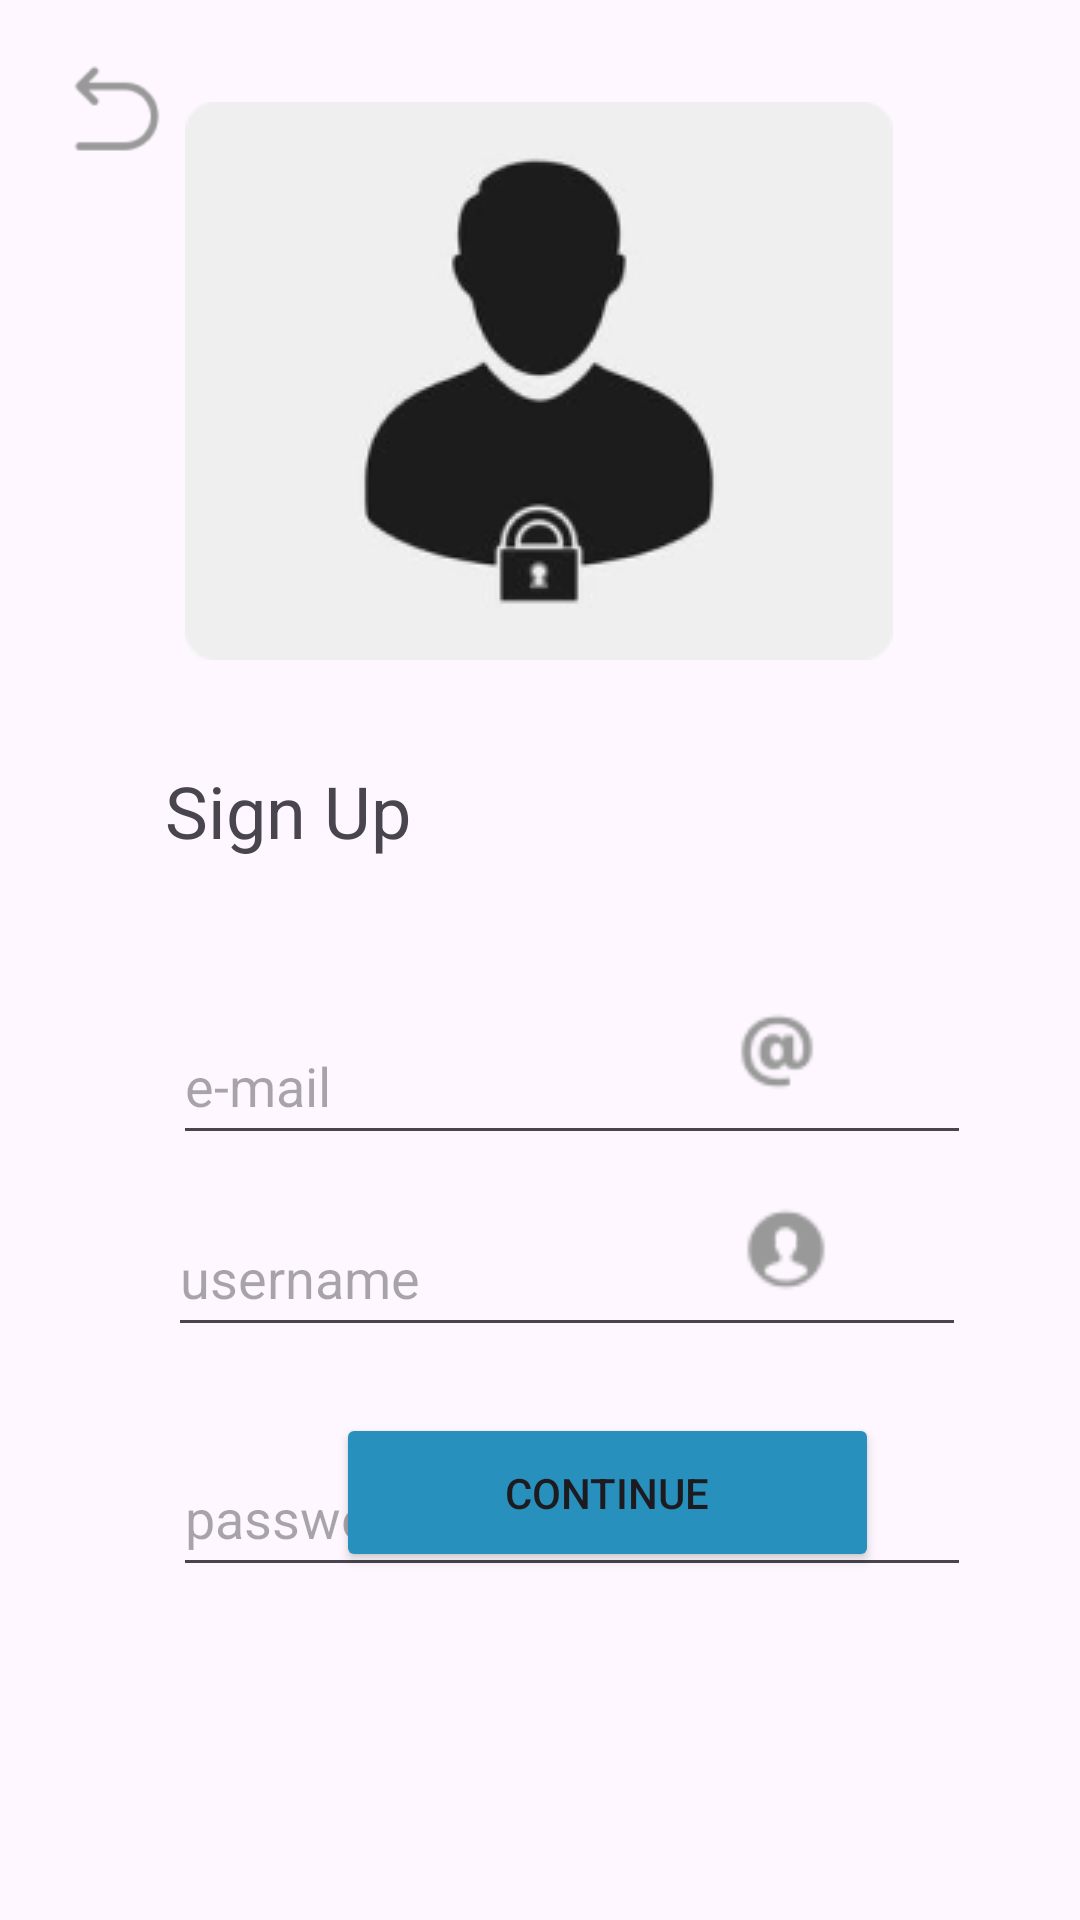

Icon bounding boxes for this 1080px×1920px phone screenshot, format [x1, y1, x2, y2]:
at sign: [741, 1016, 813, 1087]
turn to left: [75, 66, 159, 151]
